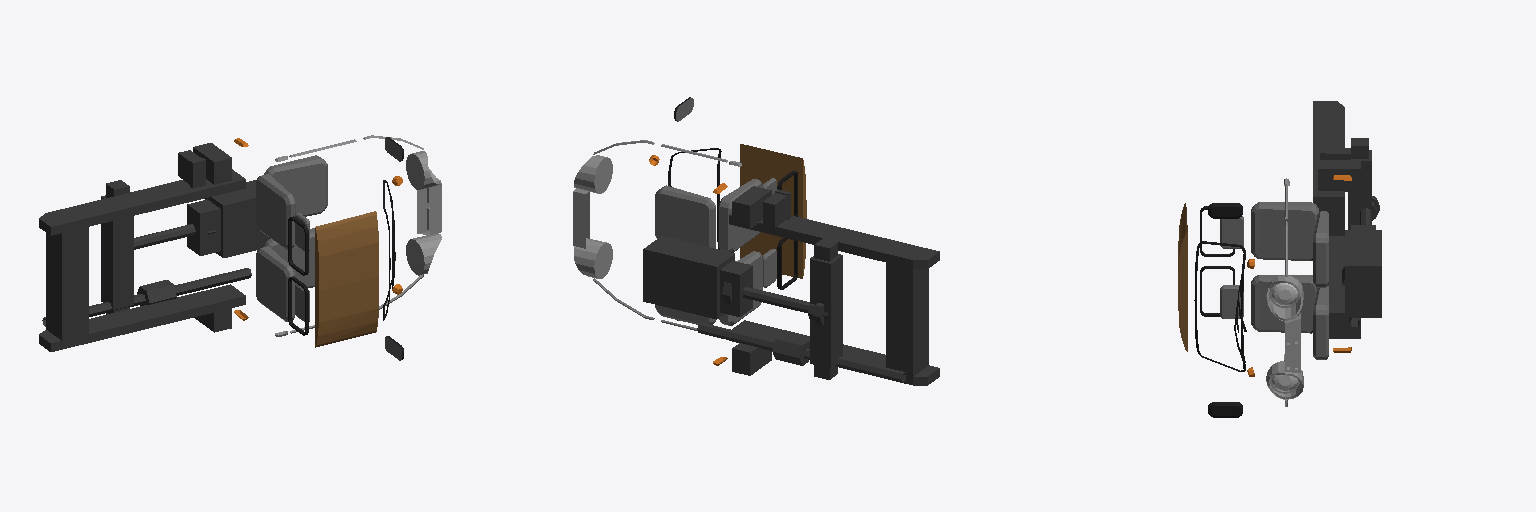
The model's file is details.obj.
3 views of the same model, side by side, from view 1: azimuth 30°, elevation 25°; view 2: azimuth 150°, elevation 25°; view 3: azimuth 270°, elevation 25° (orthographic).
Visible parts, largest first — view 1: underbody, seats, brown, chrome, trim; view 2: underbody, seats, chrome, brown, trim; view 3: underbody, seats, chrome, trim, brown, light.
Part boxes in pixels (x1,y1,x2,y2): underbody: (39, 143, 270, 351); seats: (256, 137, 401, 360); brown: (315, 211, 378, 347); chrome: (275, 135, 441, 336); trim: (288, 137, 403, 360); underbody: (643, 186, 939, 385); seats: (655, 98, 776, 325); chrome: (573, 140, 741, 330); brown: (740, 144, 806, 278); trim: (668, 97, 797, 320); underbody: (1313, 101, 1381, 338); seats: (1220, 202, 1328, 359); chrome: (1266, 178, 1303, 406); trim: (1194, 203, 1246, 417); brown: (1178, 203, 1187, 351); light: (1272, 283, 1297, 390).
Bounding box in the file's own units: 2.65 × 1.44 × 1.24.